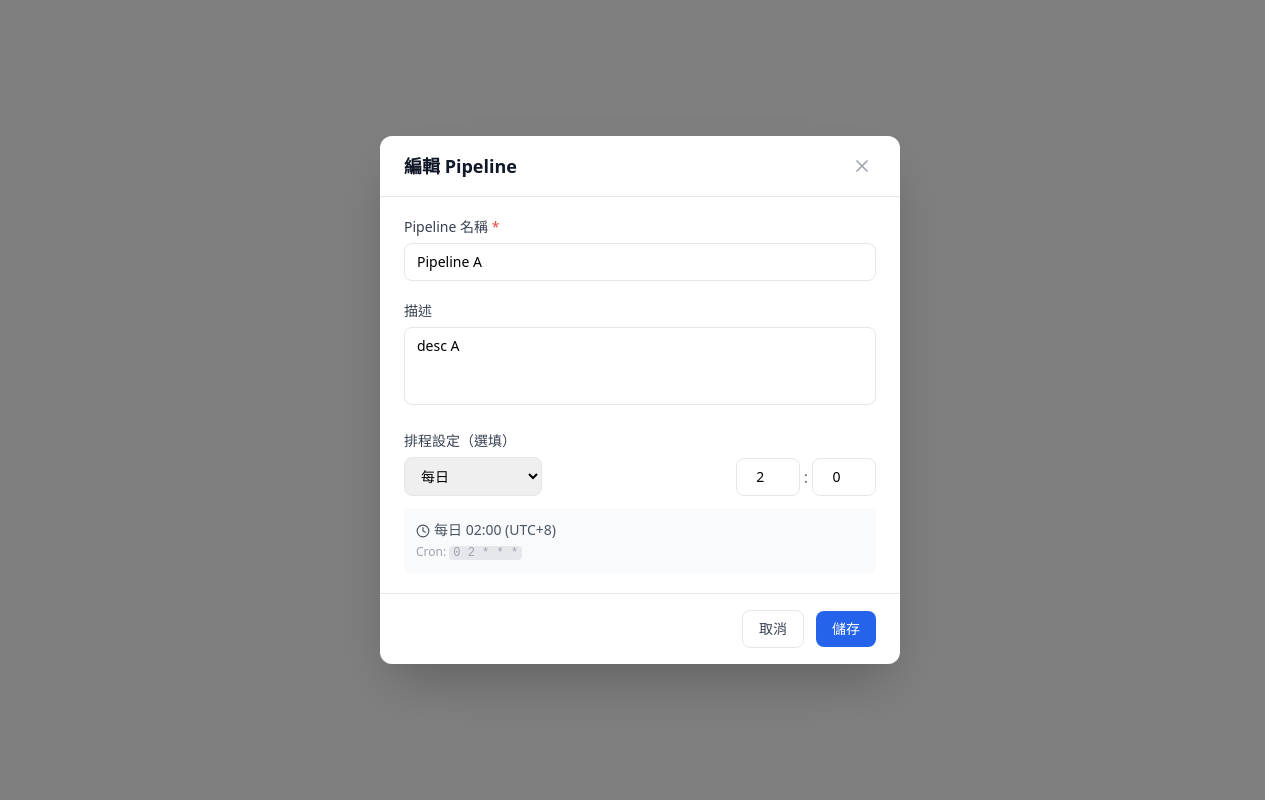
it: EditPipelineModal (F093) › TS-F093-FE-016: maps VALIDATION_INVALID_CRON to cron error message
The width and height of the screenshot is (1280, 800).
Step 1. Click the button with test id "edit-pipeline-submit" → [846, 629], box [816,611,876,647]
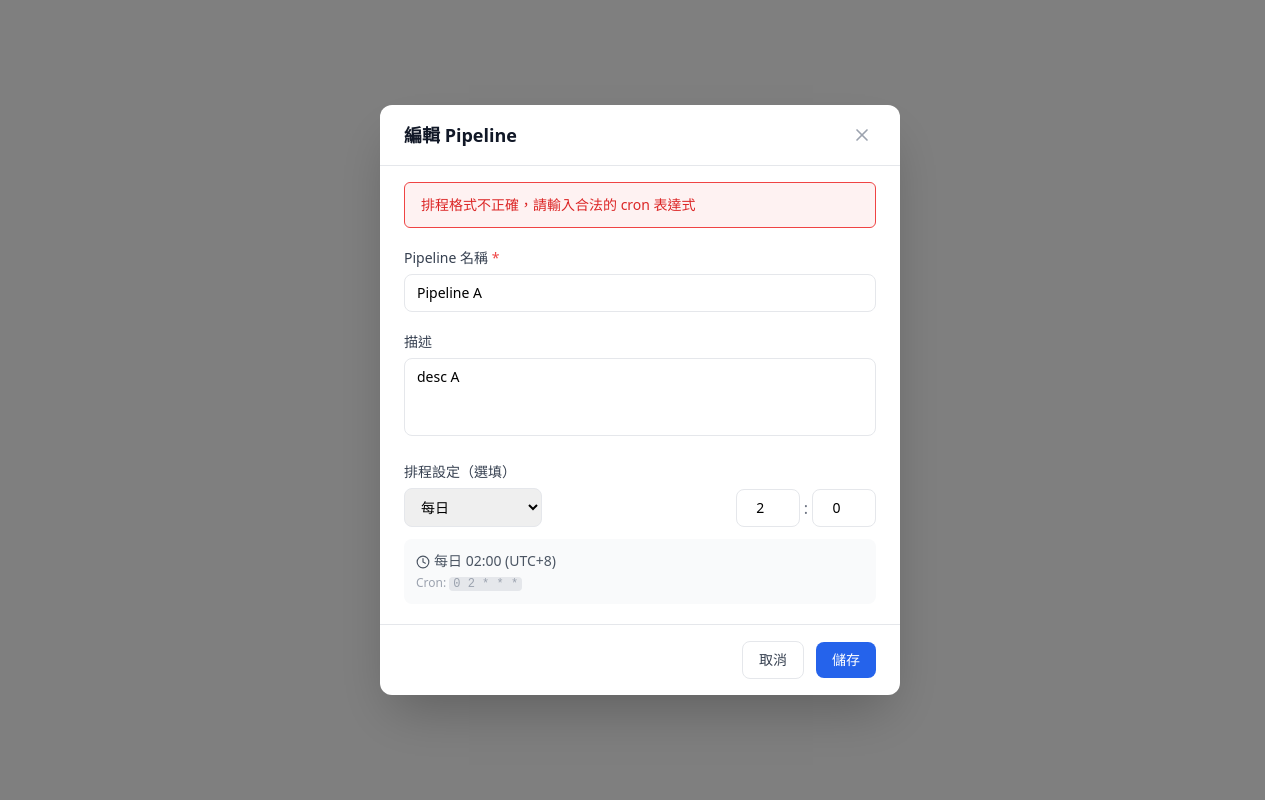
Result: the text "排程格式不正確，請輸入合法的 cron 表達式" is shown at [404,182,876,228]
